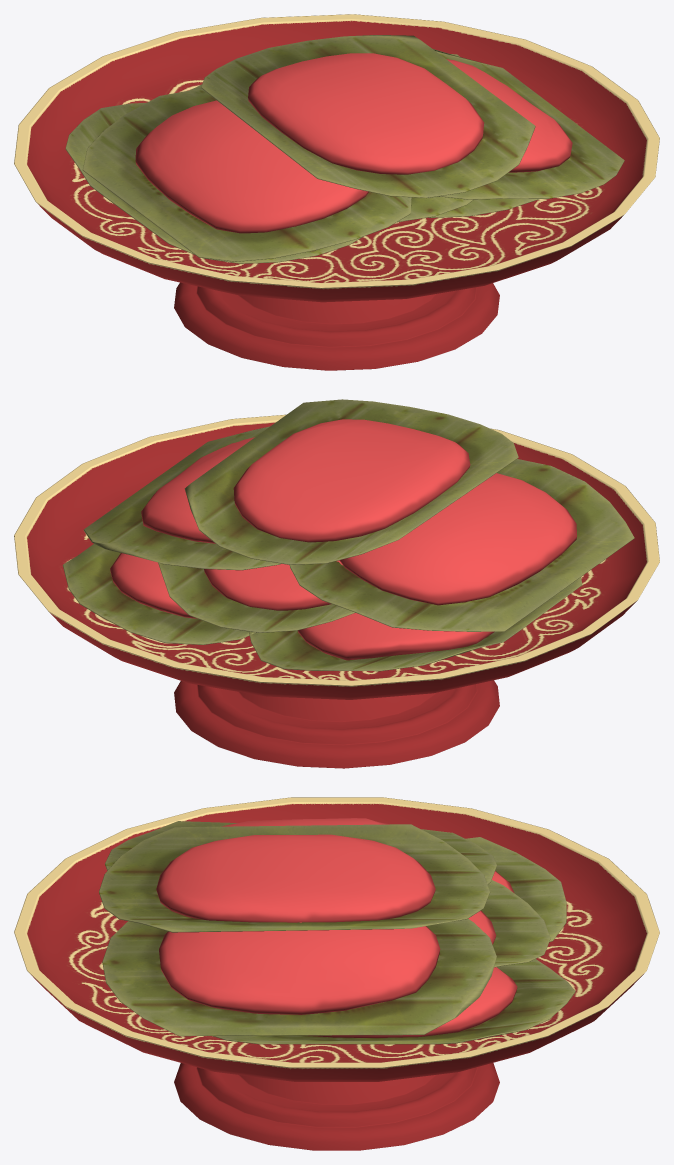
Rendered from TurtleCakePlate.fbx.
3 renders of one model, top to bottom at view 1: azimuth 30°, elevation 25°; view 2: azimuth 150°, elevation 25°; view 3: azimuth 270°, elevation 25°, orthographic.
Parts seen in each view (by area): view 1: plate, TurtleCake.001, TurtleCake; view 2: TurtleCake.001, plate, TurtleCake; view 3: TurtleCake.001, plate, TurtleCake.
Boxes of the visible parts, x1,y1,x2,y2 form: plate: [14, 14, 659, 370]; TurtleCake.001: [82, 35, 624, 261]; TurtleCake: [65, 54, 539, 263]; TurtleCake.001: [83, 399, 634, 631]; plate: [14, 414, 659, 768]; TurtleCake: [62, 544, 582, 671]; TurtleCake.001: [99, 818, 496, 1036]; plate: [14, 797, 659, 1150]; TurtleCake: [212, 837, 575, 1044].
Size of the model in its own units: 24.69 by 9.47 by 24.93.
